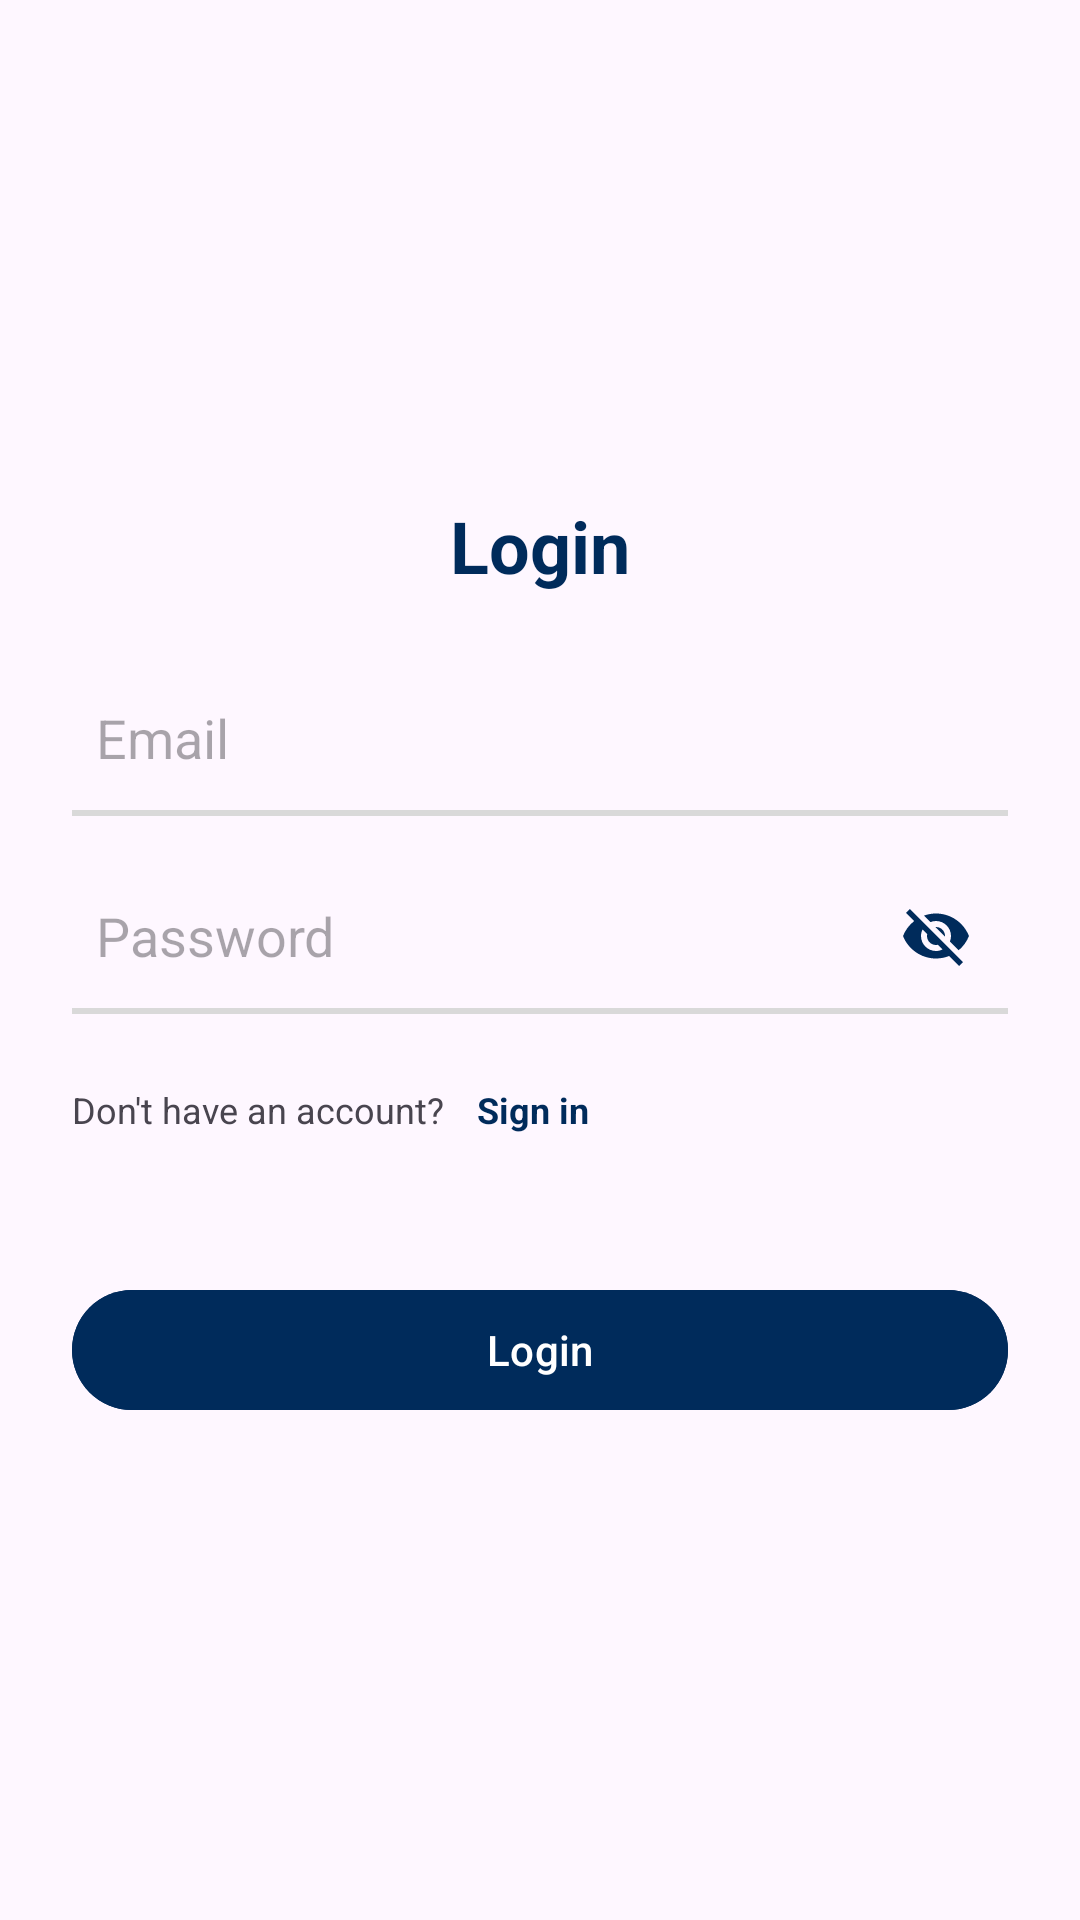

Screen size 1080x1920. Icon name, then its center in pixels as point (x, y):
visibility off: point (936, 937)
